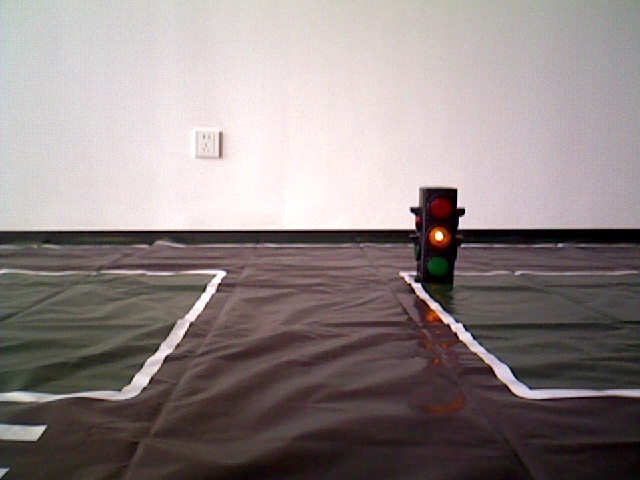yellow: (416, 190, 461, 281)
